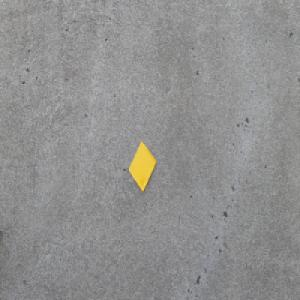PlasticPart: (128, 139, 156, 192)
